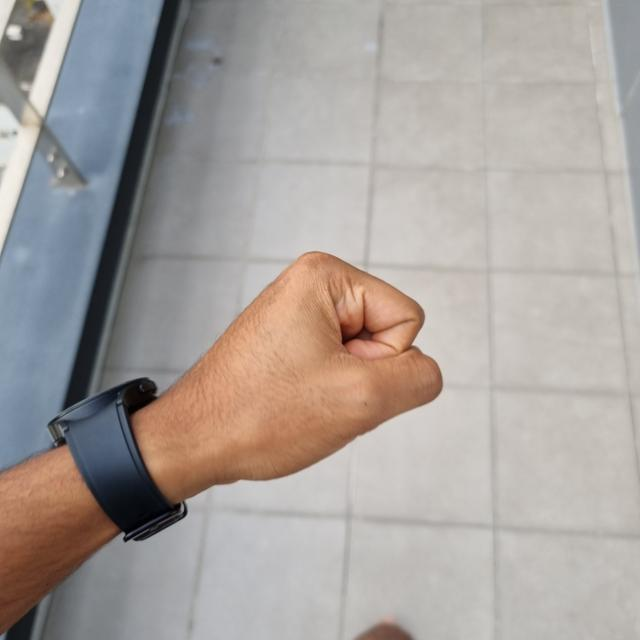Rock: (141, 253, 443, 490)
